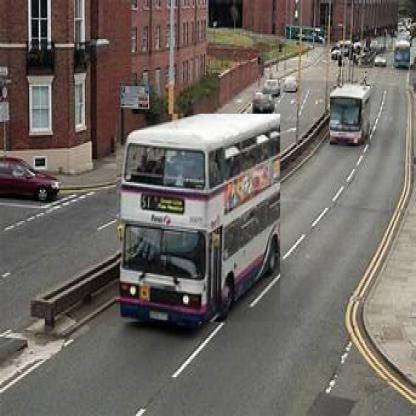bus: (118, 115, 283, 324), (331, 87, 372, 147)
car: (2, 152, 63, 203), (252, 94, 278, 117), (394, 42, 412, 69), (263, 79, 280, 97), (285, 76, 298, 94), (376, 57, 388, 70)
